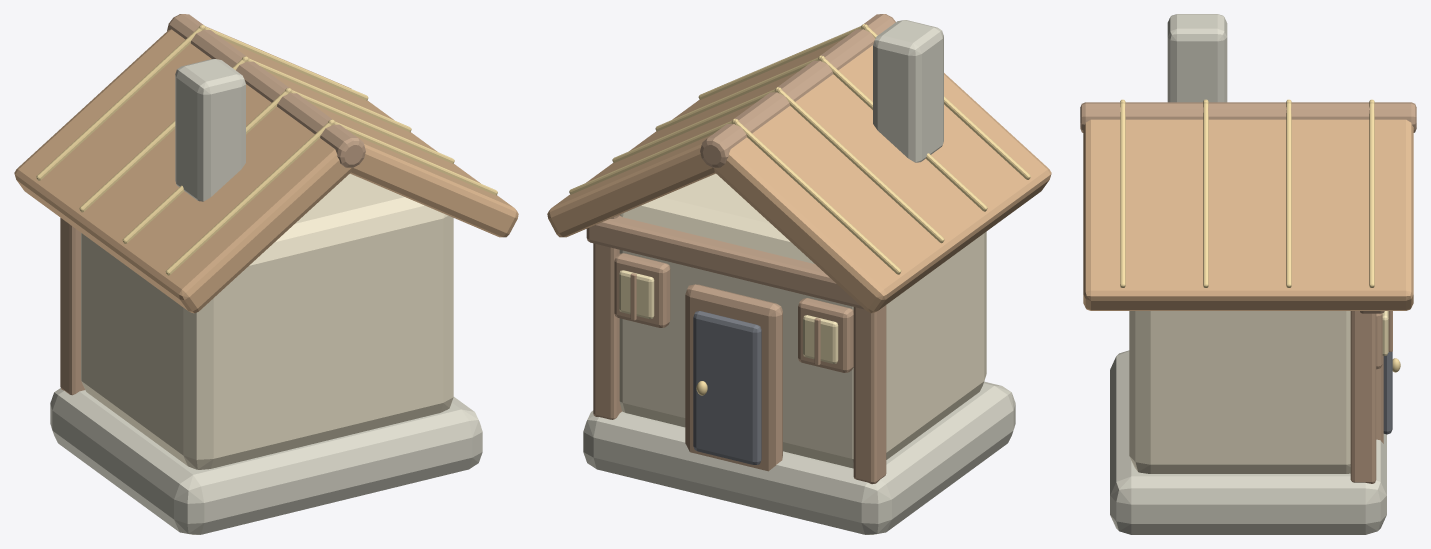
The model's file is cottage.glb.
3 views of the same model, side by side, from view 1: azimuth 30°, elevation 25°; view 2: azimuth 150°, elevation 25°; view 3: azimuth 270°, elevation 25° (orthographic). The views are drawn at different scales.
Parts seen in each view (by area): view 1: Sculpt__Warm plaster, Sculpt__Roof cottage, Sculpt__Limestone, Sculpt__Honey oak, Sculpt__Hammered brass; view 2: Sculpt__Roof cottage, Sculpt__Warm plaster, Sculpt__Honey oak, Sculpt__Limestone, Sculpt__Leather and sockets, Sculpt__Hammered brass, Sculpt__Lantern glass; view 3: Sculpt__Roof cottage, Sculpt__Warm plaster, Sculpt__Limestone, Sculpt__Honey oak, Sculpt__Hammered brass, Sculpt__Leather and sockets.
Boxes of the visible parts, x1=… form: Sculpt__Warm plaster: x1=81, y1=173, x2=453, y2=469; Sculpt__Roof cottage: x1=14, y1=26, x2=518, y2=313; Sculpt__Limestone: x1=50, y1=59, x2=482, y2=534; Sculpt__Honey oak: x1=60, y1=14, x2=365, y2=395; Sculpt__Hammered brass: x1=36, y1=24, x2=497, y2=275; Sculpt__Roof cottage: x1=547, y1=40, x2=1051, y2=313; Sculpt__Warm plaster: x1=619, y1=173, x2=986, y2=468; Sculpt__Honey oak: x1=586, y1=14, x2=895, y2=484; Sculpt__Limestone: x1=583, y1=20, x2=1015, y2=534; Sculpt__Leather and sockets: x1=693, y1=311, x2=761, y2=464; Sculpt__Hammered brass: x1=569, y1=24, x2=1030, y2=395; Sculpt__Lantern glass: x1=619, y1=270, x2=838, y2=363; Sculpt__Roof cottage: x1=1083, y1=119, x2=1413, y2=310; Sculpt__Warm plaster: x1=1129, y1=311, x2=1350, y2=473; Sculpt__Limestone: x1=1110, y1=14, x2=1386, y2=534; Sculpt__Honey oak: x1=1080, y1=102, x2=1416, y2=483; Sculpt__Hammered brass: x1=1120, y1=99, x2=1400, y2=372; Sculpt__Leather and sockets: x1=1383, y1=352, x2=1392, y2=434.
Size of the model in its own units: 1.77 by 2.13 by 1.58.
